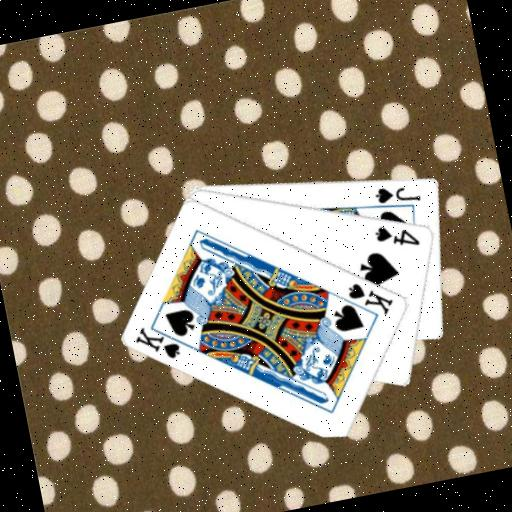4S: (370, 217, 422, 255)
JS: (371, 177, 423, 211)
KS: (130, 316, 193, 368), (343, 273, 398, 323)
